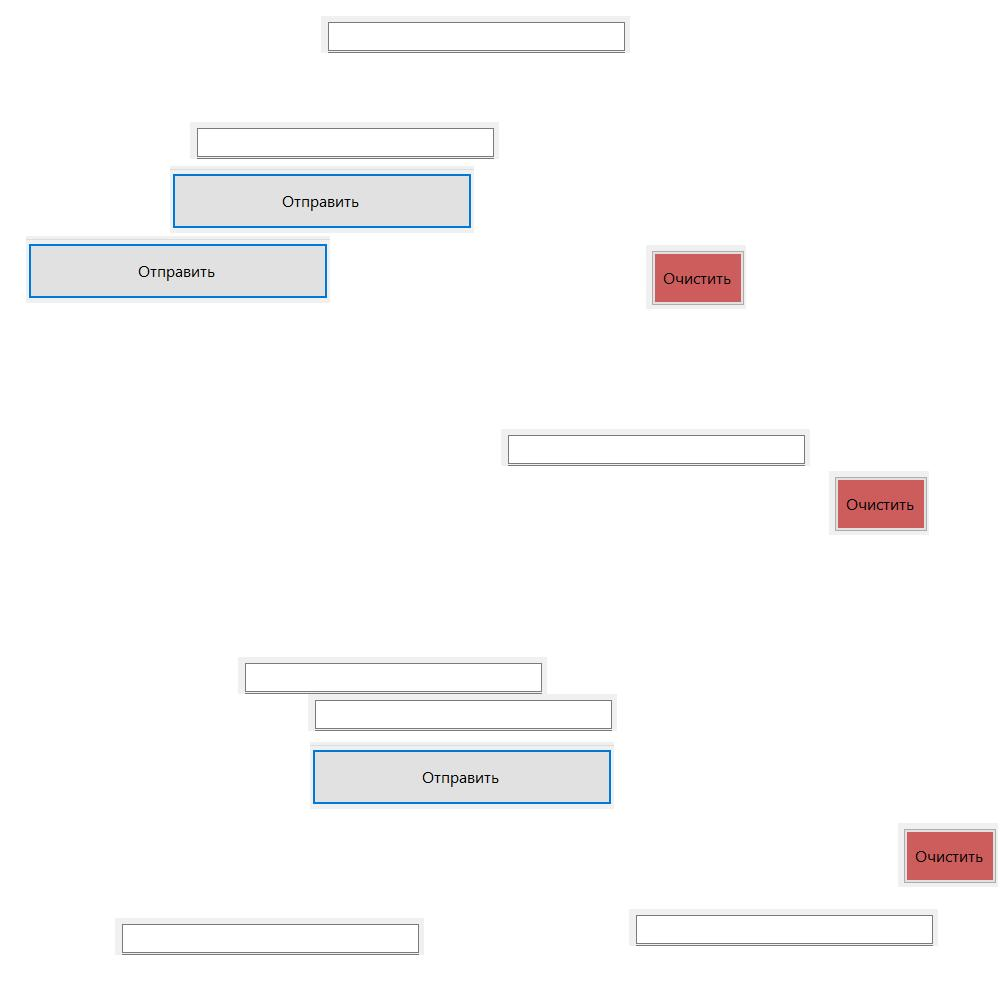Button: (310, 742, 614, 809), (170, 166, 474, 233), (26, 236, 330, 303), (898, 823, 998, 887), (646, 245, 746, 309), (829, 471, 929, 535)
EditText-: (308, 694, 617, 731), (629, 909, 938, 946), (321, 16, 630, 53), (501, 429, 810, 466), (238, 657, 547, 694), (115, 918, 424, 955), (190, 122, 499, 159)
